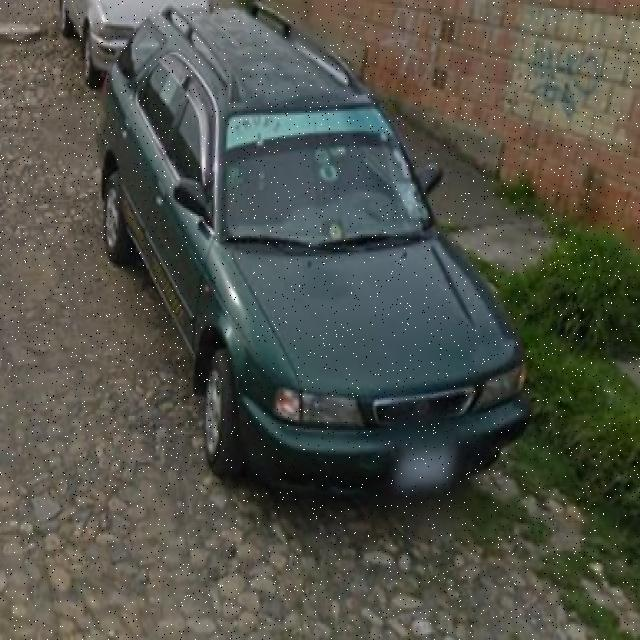cars: (103, 20, 536, 488)
